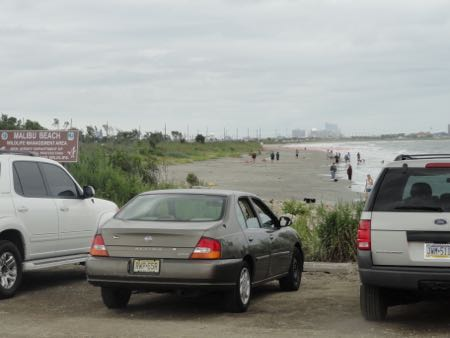car: (88, 187, 305, 310), (1, 151, 119, 294), (356, 152, 450, 324)
